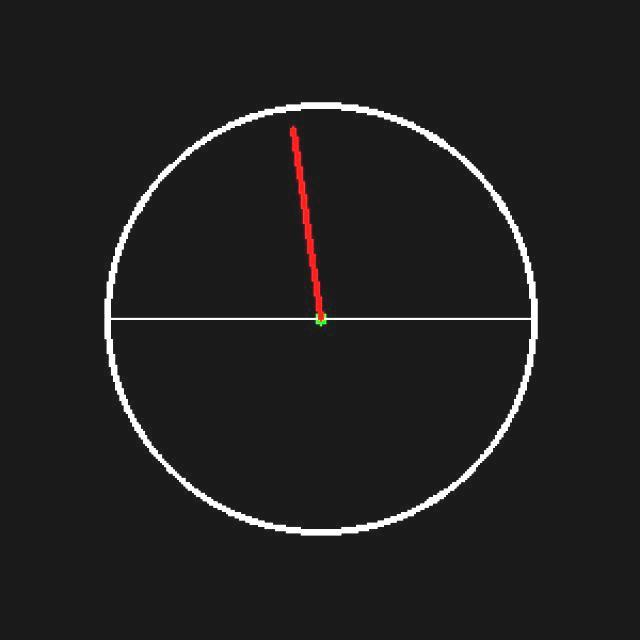Needle_Tip: (274, 113, 315, 159)
Needle_base: (284, 280, 357, 342)
